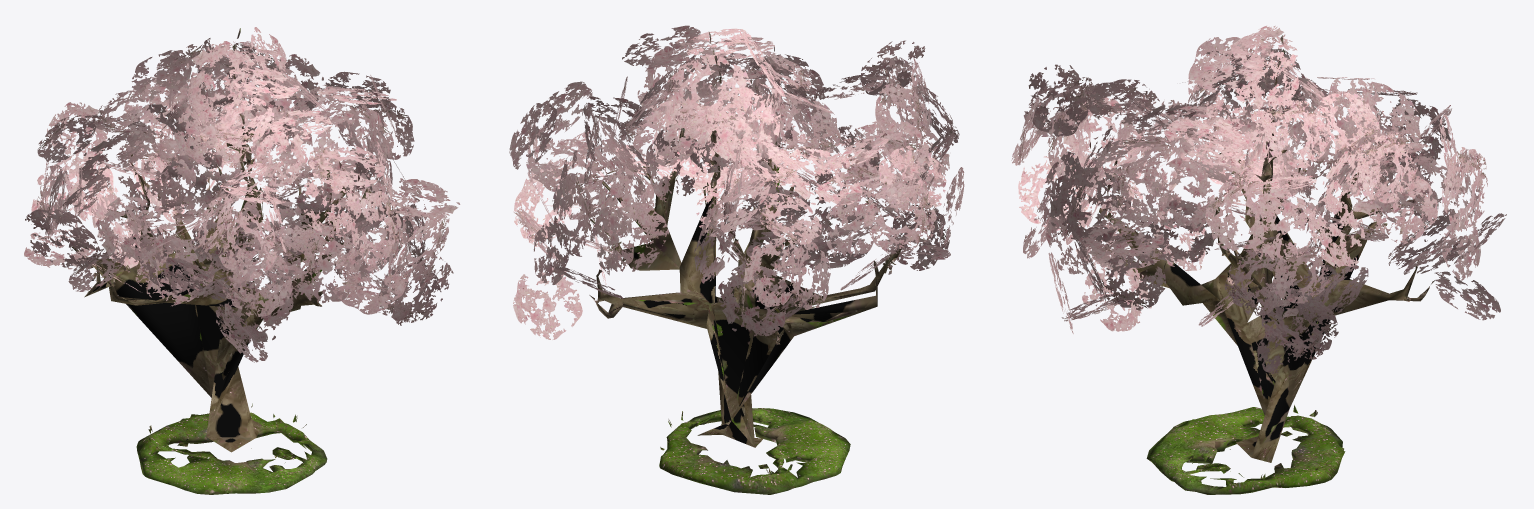
File: Petal_Cascade.fbx
3 views of the same model, side by side, from view 1: azimuth 30°, elevation 25°; view 2: azimuth 150°, elevation 25°; view 3: azimuth 270°, elevation 25° (orthographic). The views are drawn at different scales.
Visible parts, largest first — view 1: Petal_Cascade_LOD0; view 2: Petal_Cascade_LOD0; view 3: Petal_Cascade_LOD0.
Boxes of the visible parts, x1,y1,x2,y2 form: Petal_Cascade_LOD0: (24, 27, 460, 494); Petal_Cascade_LOD0: (509, 25, 964, 494); Petal_Cascade_LOD0: (1011, 25, 1506, 494).
Size of what is drawn, in the model's own units: 1.81 by 1.75 by 1.88.
Materials: 2 (2 with a texture image).
